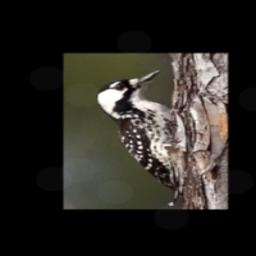Woodpecker: (92, 68, 187, 190)
